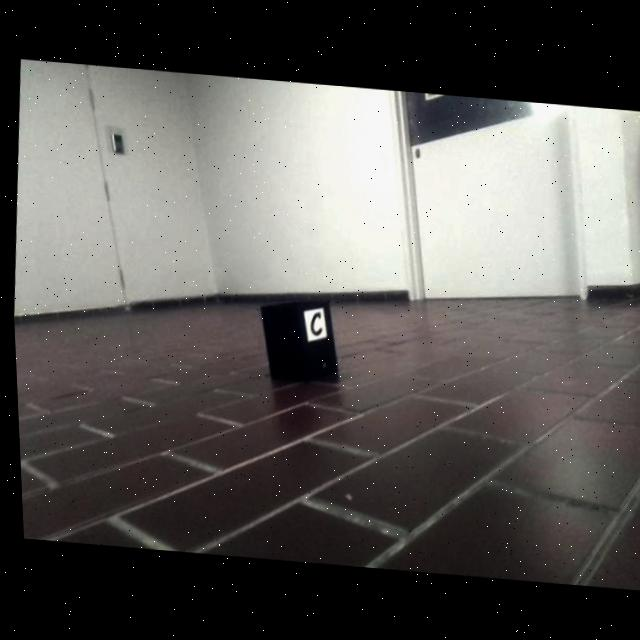C: (307, 310, 319, 335)
